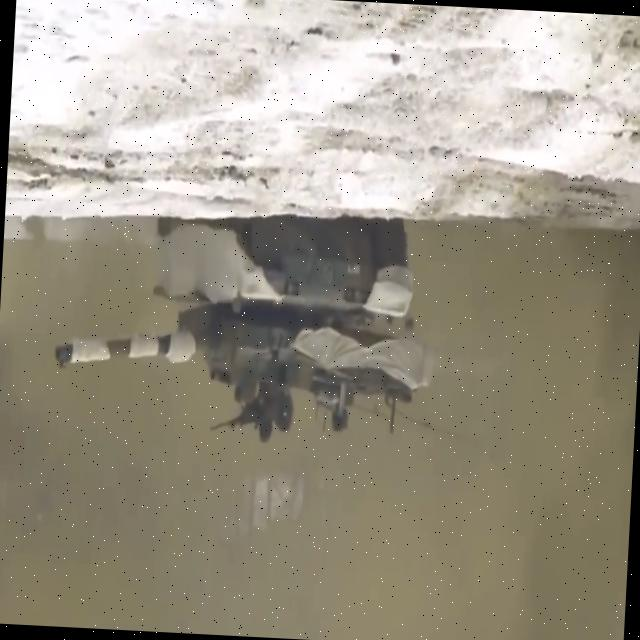korea tank: (46, 198, 442, 456)
